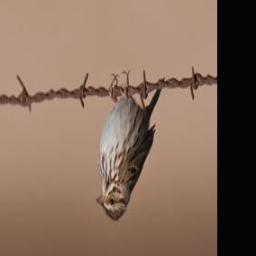Sparrow: (95, 72, 167, 221)
